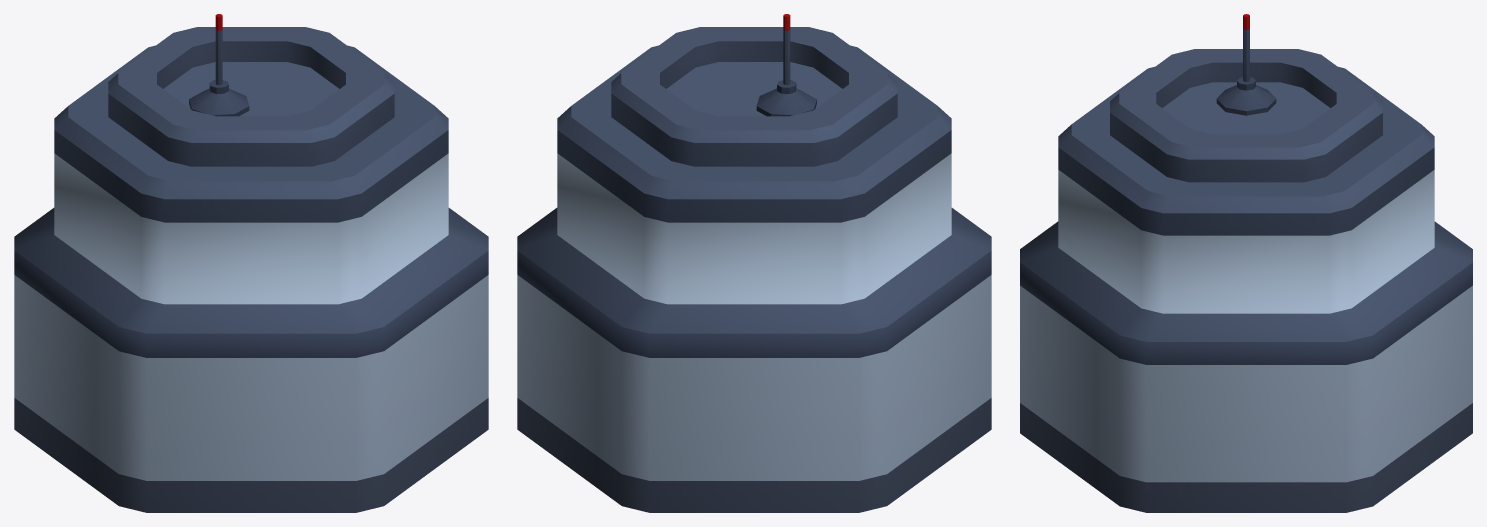
Rendered from Tower 02.FBX.
The picture shows the model from 3 angles, left to right: view 1: azimuth 30°, elevation 25°; view 2: azimuth 150°, elevation 25°; view 3: azimuth 270°, elevation 25°; orthographic projection. The views are drawn at different scales.
Visible parts, largest first — view 1: Tower 02; view 2: Tower 02; view 3: Tower 02.
Boxes of the visible parts, x1,y1,x2,y2 form: Tower 02: (14, 14, 488, 512); Tower 02: (517, 14, 991, 512); Tower 02: (1020, 14, 1472, 512).
Bounding box in the file's own units: 559 × 600 × 621.
1 material, 1 textured.
